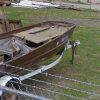Boat: (2, 18, 79, 72)
